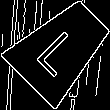L_NE: (32, 20, 90, 78)
